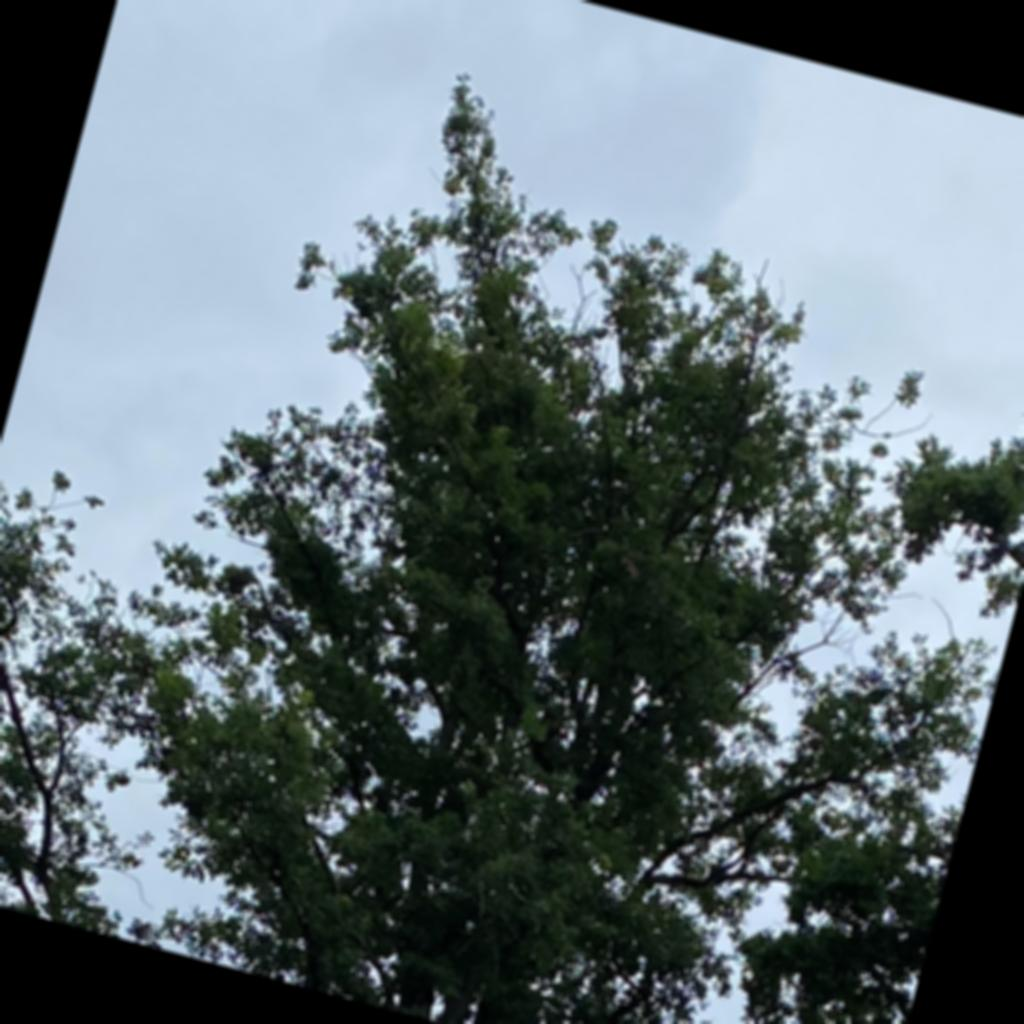tree: (1, 68, 1023, 1023)
